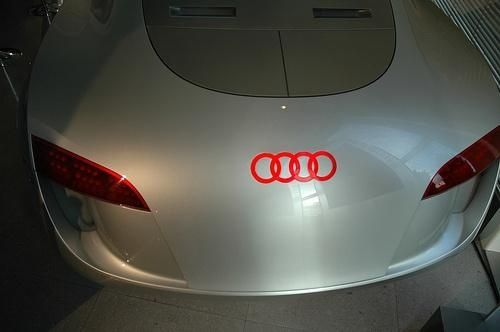car: (29, 2, 500, 296)
